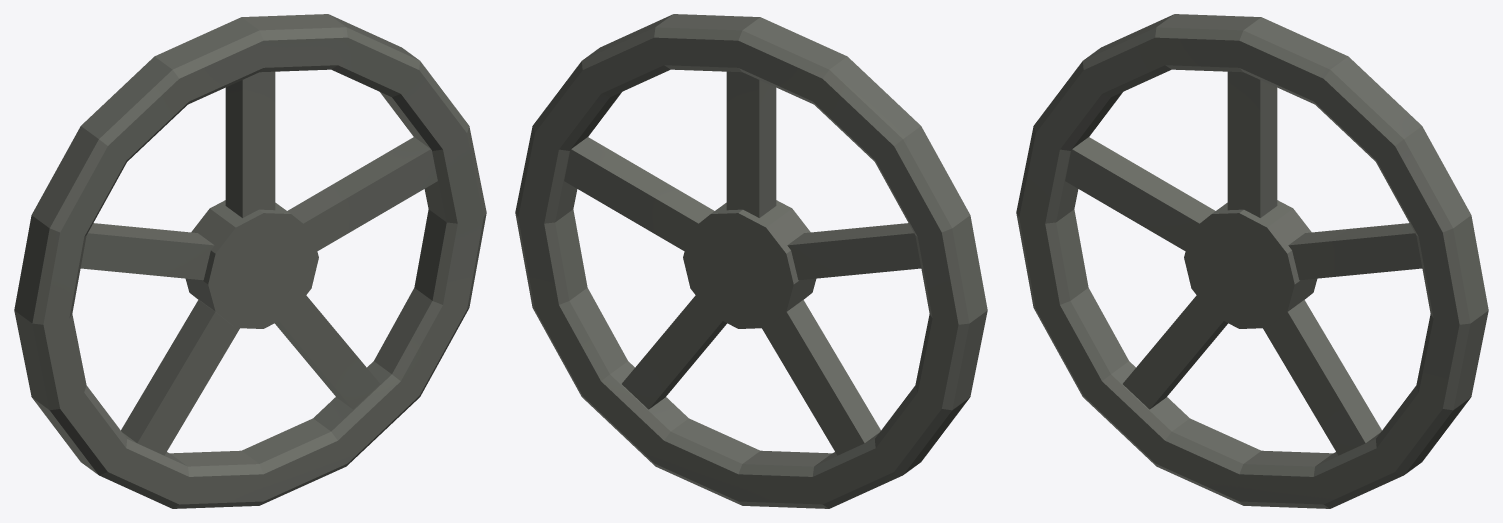
Rendered from WarrensC_CCS21_HandwheelBody_Mars_SM.fbx.
3 renders of one model, left to right at view 1: azimuth 30°, elevation 25°; view 2: azimuth 150°, elevation 25°; view 3: azimuth 330°, elevation 25°, orthographic.
Parts seen in each view (by area): view 1: WarrensC_CCS21_HandwheelBody_Mars_SM.001; view 2: WarrensC_CCS21_HandwheelBody_Mars_SM.001; view 3: WarrensC_CCS21_HandwheelBody_Mars_SM.001.
Part boxes in pixels (x1=…): WarrensC_CCS21_HandwheelBody_Mars_SM.001: x1=14, y1=14, x2=486, y2=508; WarrensC_CCS21_HandwheelBody_Mars_SM.001: x1=515, y1=14, x2=987, y2=508; WarrensC_CCS21_HandwheelBody_Mars_SM.001: x1=1016, y1=14, x2=1488, y2=508.
Size of the model in its own units: 50 by 5 by 50.
